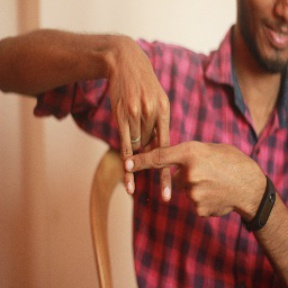H: (96, 93, 204, 199)
